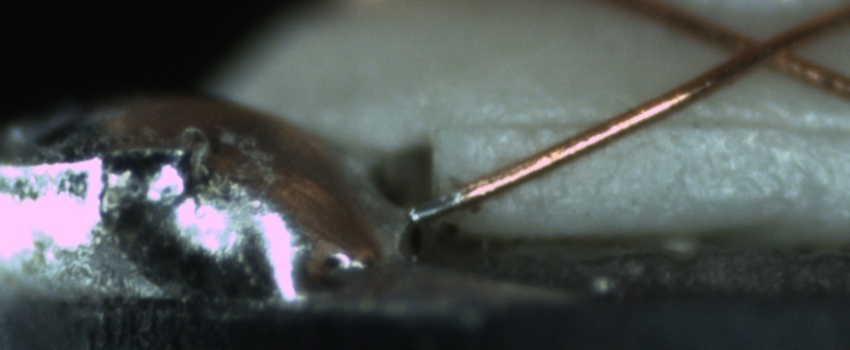CL: (712, 16, 814, 79)
DL: (444, 94, 849, 156)
TS: (408, 190, 466, 225)
